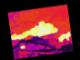Foc: (8, 14, 63, 42), (51, 26, 71, 45)
